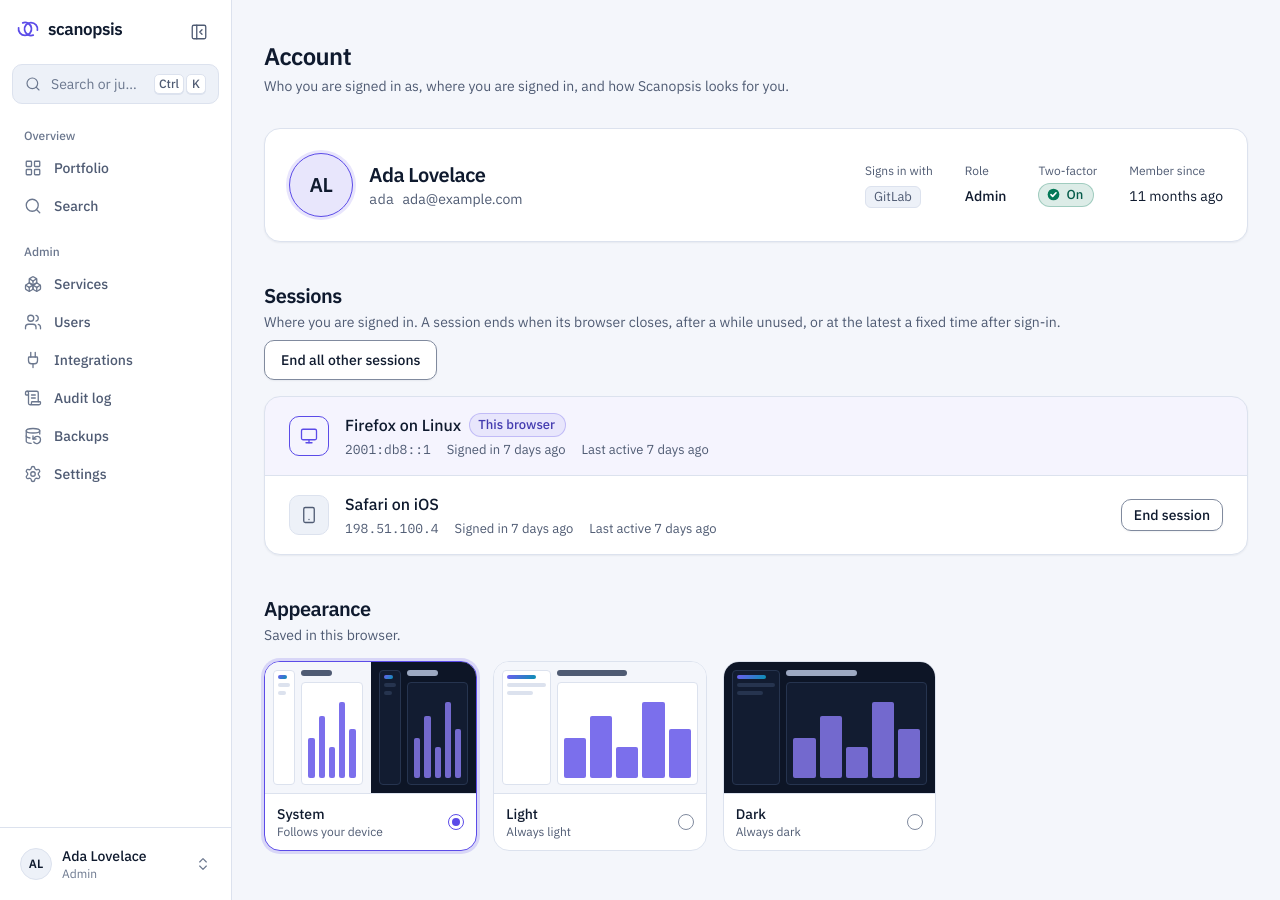
Test: account page › reports a session that could not be ended
The width and height of the screenshot is (1280, 900).
Click the button "End session" at coordinates (1172, 515), box [1121, 499, 1223, 531]
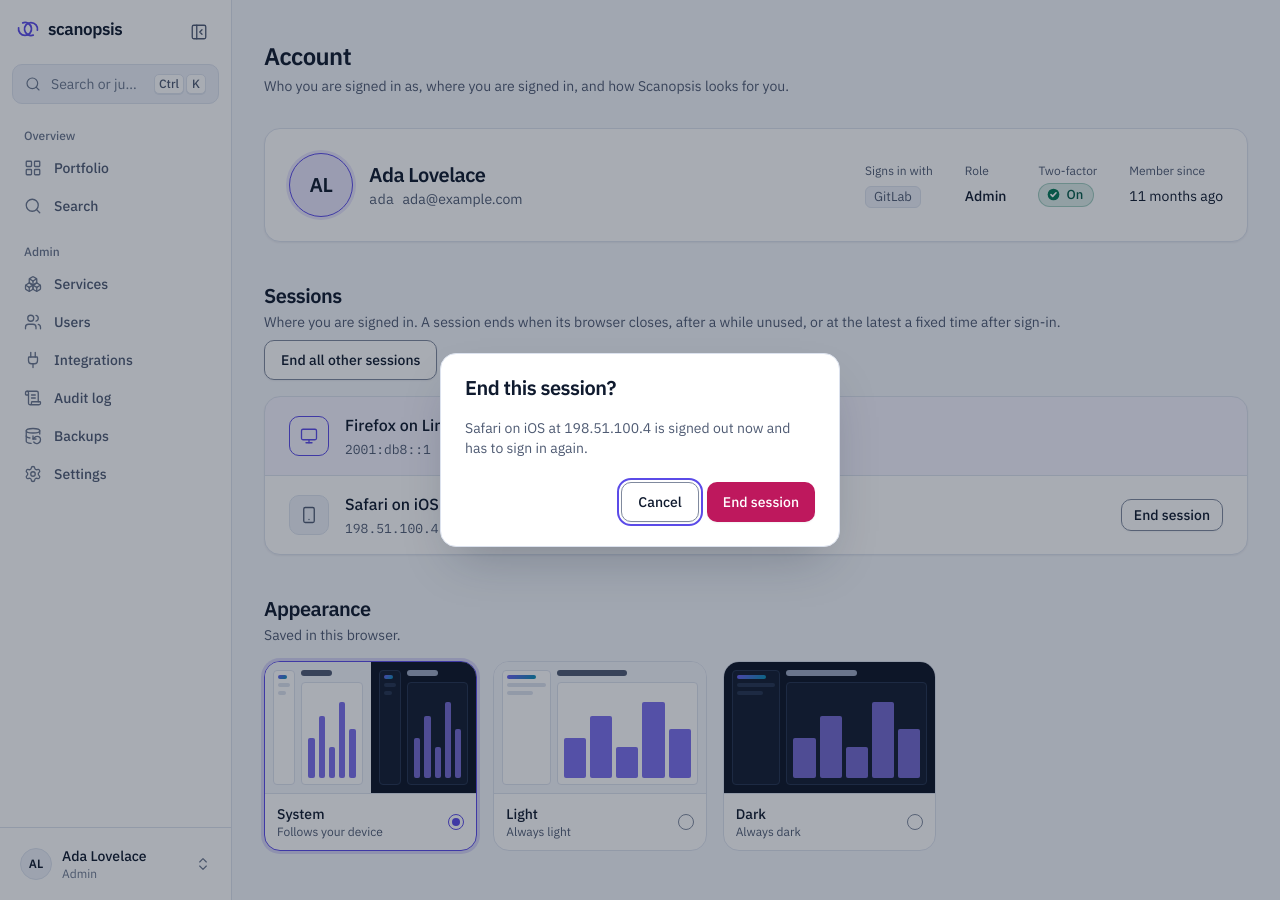
Click the button "End session" at coordinates (761, 502), box [707, 482, 815, 522]
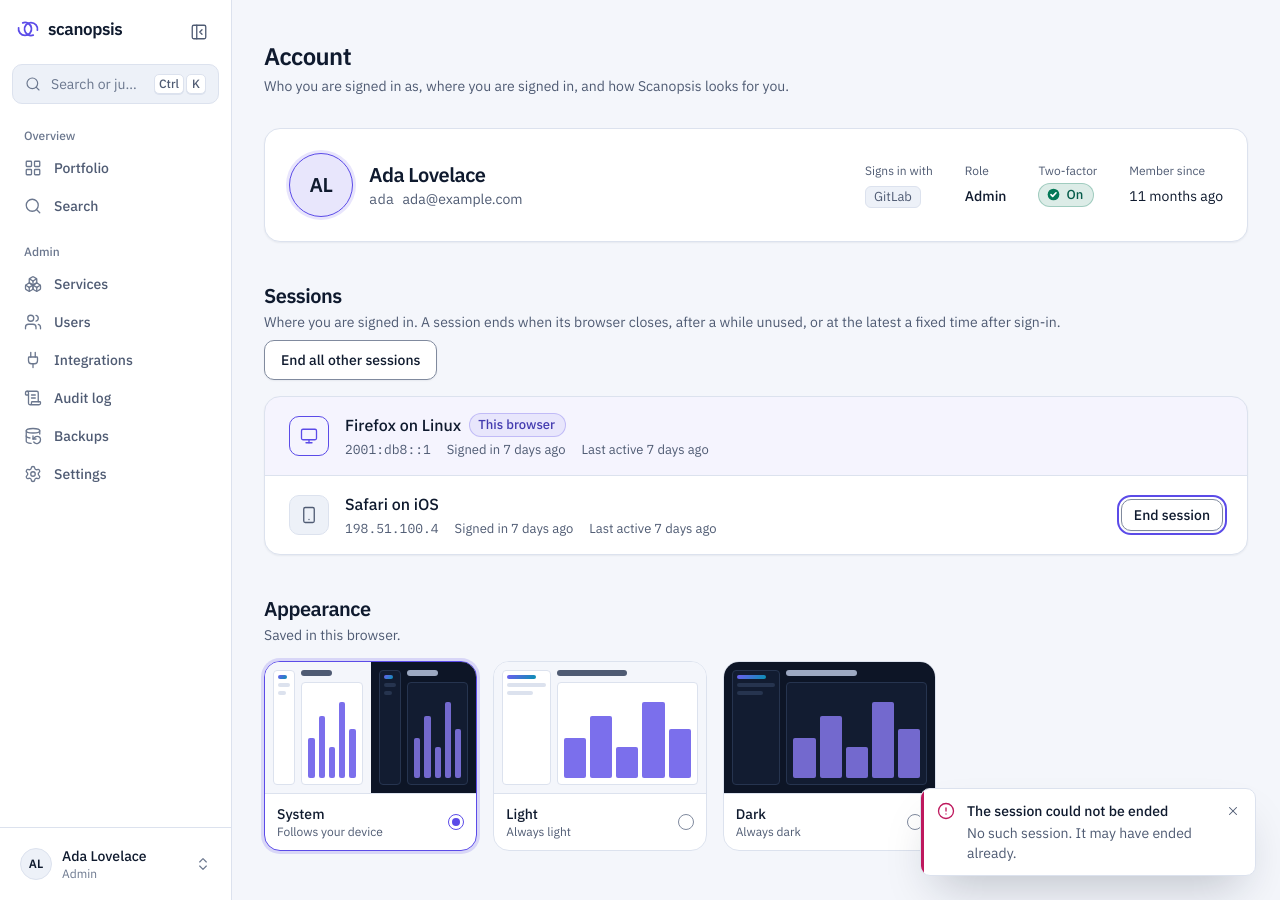
Now the text "The session could not be ended" is shown, box [967, 802, 1168, 820]
Now the text "No such session. It may have ended already." is shown, box [967, 823, 1215, 863]
Now the dialog is gone
